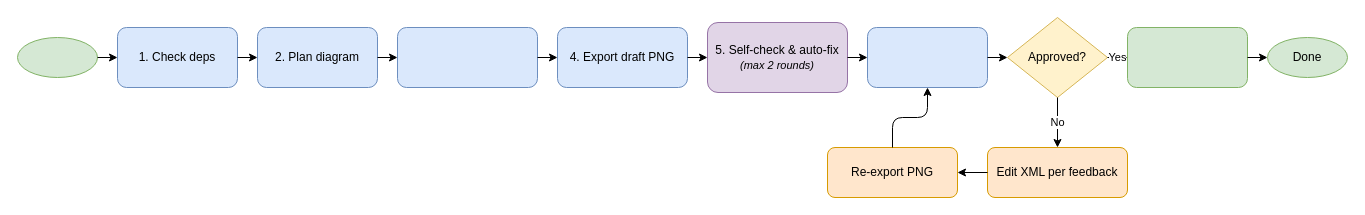
This 1365x215 diagram has some shape labels left out. Each missing label, with the centre of its shape:
"3. Generate .drawio XML" goes at (x=467, y=57).
"6. Show to user" goes at (x=927, y=57).
"7. Final export" goes at (x=1187, y=57).
"Start" goes at (x=57, y=57).
